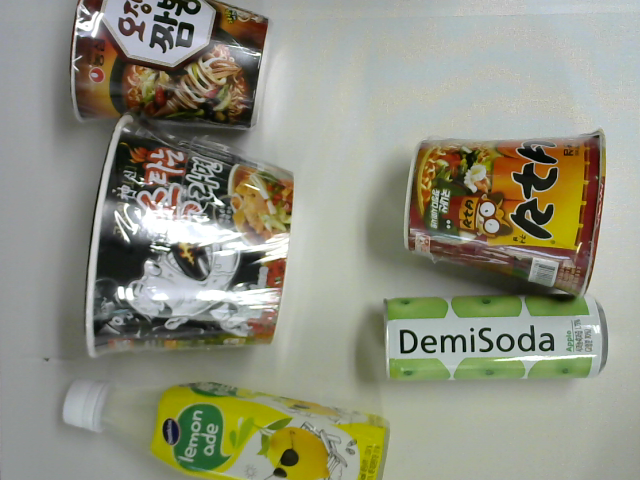Demisoda_Apple_Can_250ml: (381, 293, 609, 380)
HeJangsock: (83, 115, 295, 360)
Ojjam: (71, 1, 272, 131)
Raccoon: (403, 128, 607, 298)
Sunkist_Lemonaid_Pet: (61, 378, 391, 480)
